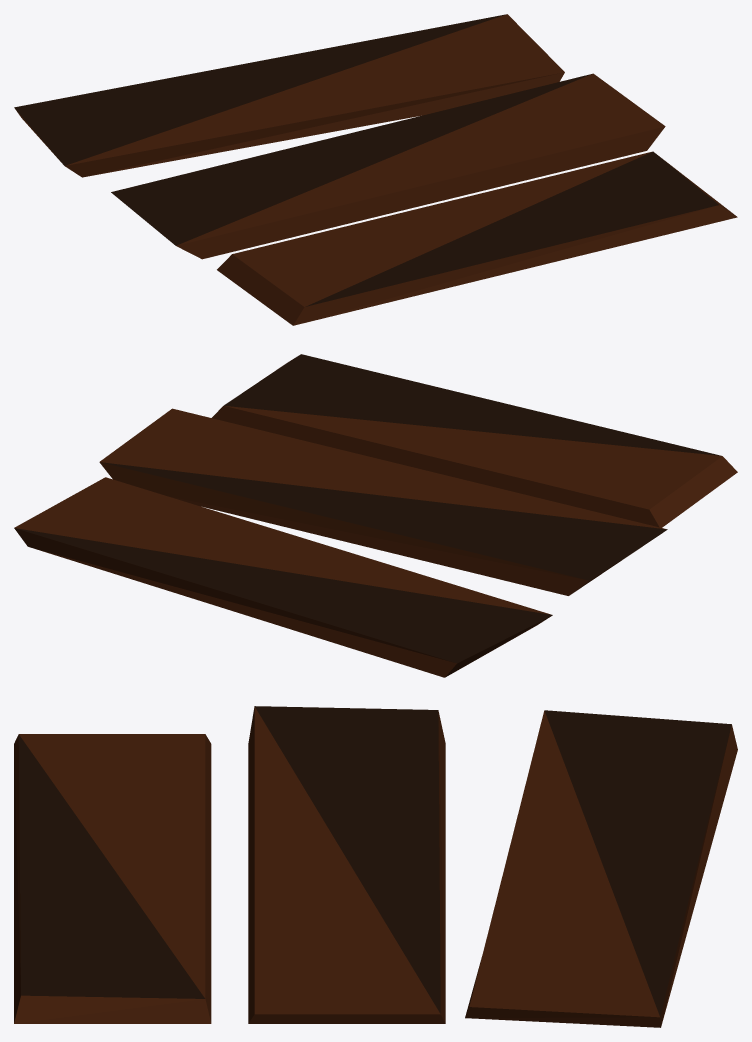
Rendered from Bridge_1_middle_2.fbx.
The picture shows the model from 3 angles, top to bottom: view 1: azimuth 30°, elevation 25°; view 2: azimuth 150°, elevation 25°; view 3: azimuth 270°, elevation 25°; orthographic projection. The views are drawn at different scales.
Parts seen in each view (by area): view 1: Bridge_1_middle_2; view 2: Bridge_1_middle_2; view 3: Bridge_1_middle_2.
Part boxes in pixels (bbox=[...]): Bridge_1_middle_2: bbox=[14, 14, 737, 325]; Bridge_1_middle_2: bbox=[14, 354, 737, 677]; Bridge_1_middle_2: bbox=[14, 706, 737, 1027].
Bounding box in the file's own units: 203 × 6.94 × 201.
